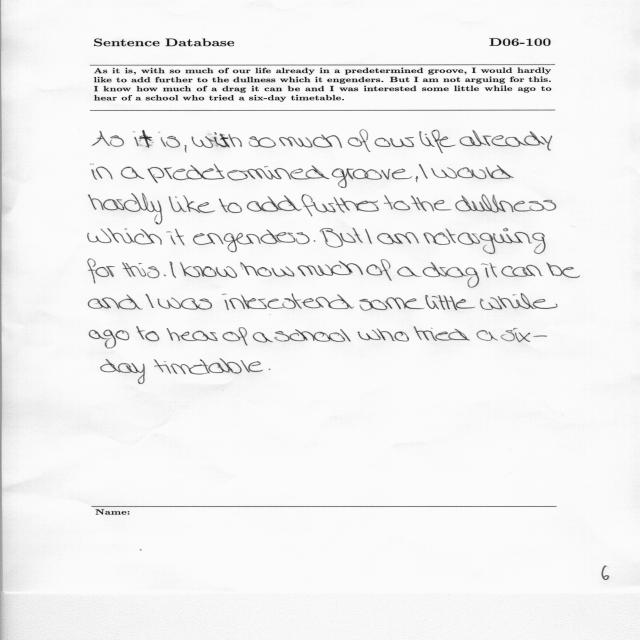word: (147, 164, 330, 183), (193, 230, 309, 253), (446, 228, 546, 254), (89, 193, 163, 225), (222, 293, 354, 310), (460, 130, 552, 151), (456, 194, 557, 213), (154, 359, 263, 375), (301, 195, 379, 217), (332, 168, 412, 188), (423, 262, 479, 288), (480, 293, 558, 310), (88, 228, 162, 245), (431, 165, 514, 179), (101, 359, 145, 384), (274, 329, 351, 342), (297, 261, 363, 276), (247, 195, 302, 212), (359, 297, 425, 311), (180, 262, 237, 278), (279, 134, 342, 148), (320, 228, 363, 248), (419, 130, 456, 153), (414, 326, 470, 341), (169, 195, 215, 213), (88, 295, 143, 310), (191, 132, 242, 148), (240, 262, 294, 277), (89, 330, 129, 349), (425, 295, 475, 310), (157, 297, 212, 310), (88, 259, 115, 284), (167, 328, 218, 341), (358, 329, 409, 342), (411, 196, 452, 212), (501, 328, 547, 342), (122, 262, 160, 278), (366, 259, 392, 281), (546, 262, 580, 278), (501, 265, 544, 277), (92, 131, 124, 147), (348, 130, 371, 152), (377, 232, 419, 244), (223, 328, 248, 346), (375, 137, 414, 147), (384, 195, 410, 210), (158, 132, 180, 148), (424, 232, 451, 245), (219, 198, 242, 213), (137, 327, 160, 342), (135, 130, 154, 148), (249, 136, 276, 148), (166, 229, 185, 245), (121, 166, 144, 179), (92, 166, 113, 180), (397, 266, 422, 277), (476, 330, 498, 341), (481, 263, 497, 278), (253, 332, 274, 343), (419, 164, 428, 179), (145, 294, 154, 308), (169, 261, 176, 278), (365, 229, 372, 244), (415, 176, 418, 182), (185, 145, 187, 153), (314, 240, 316, 242), (164, 274, 166, 276), (269, 369, 271, 370)
